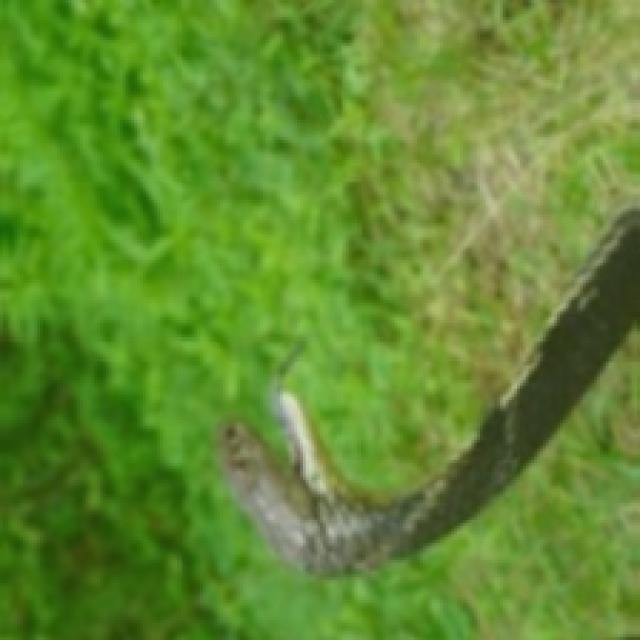king cobra: (217, 206, 637, 571)
